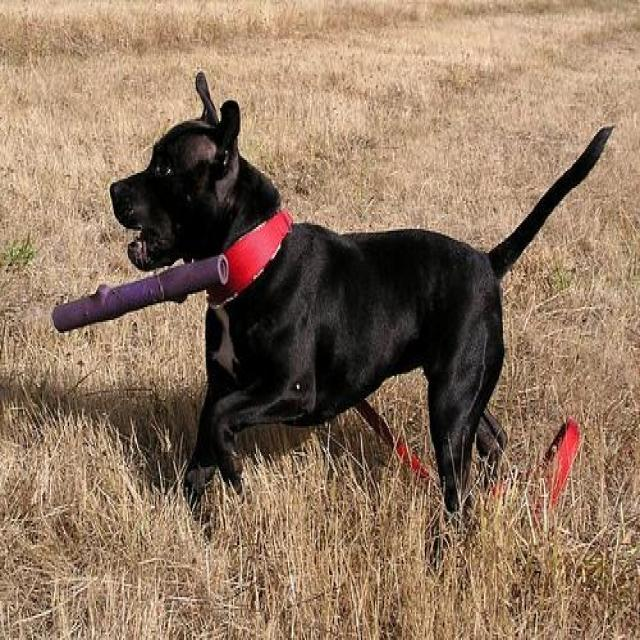staffordshire_bullterrier: (108, 61, 618, 538)
